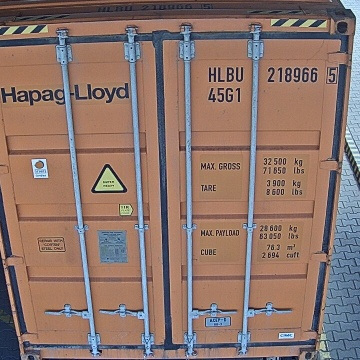serial_id: (209, 67, 337, 82)
